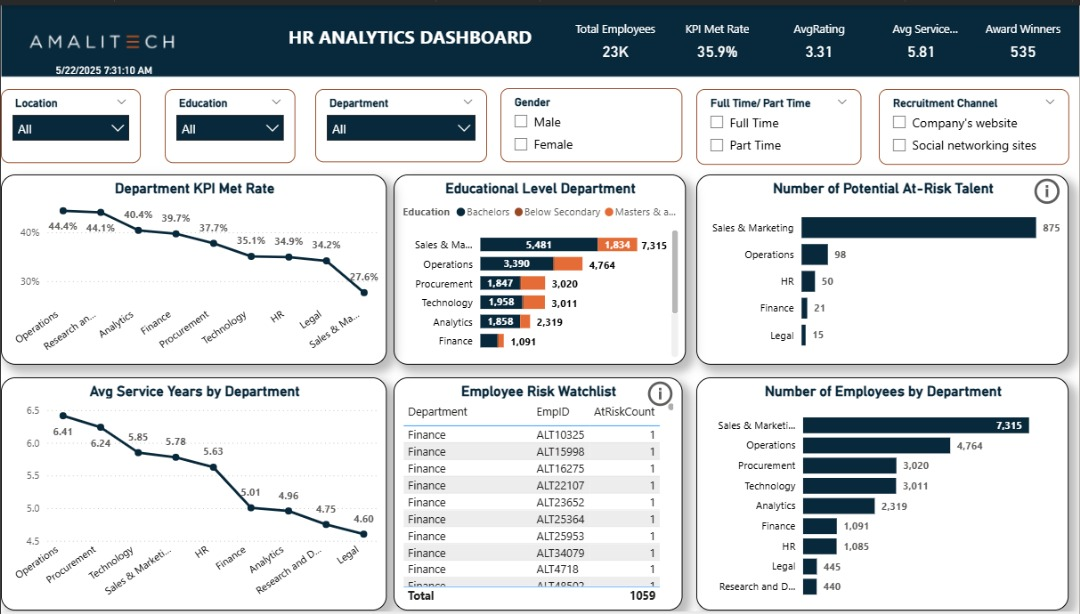

The page's visual inventory and layout, read from the dashboard file:
{"tool":"powerbi","page":{"name":"Department Overview","canvas":[1280,720],"ordinal":1},"visuals":[{"type":"textbox","box":[336.1,18,320.3,47.6],"z":0},{"type":"slicer","fields":{"Values":["Altera_Emp_Data.Gender"]},"box":[593.1,97.9,216.3,88.4],"z":1000},{"type":"slicer","fields":{"Values":["Altera_Emp_Data.Education"]},"box":[194.5,99.3,155.1,88.4],"z":2000},{"type":"slicer","fields":{"Values":["Altera_Emp_Data.Department"]},"box":[372.7,99.3,204,87.1],"z":3000},{"type":"slicer","fields":{"Values":["Altera_Emp_Data.Location"]},"box":[0,99.3,166,88.4],"z":4000},{"type":"card","title":"Total Awards Won","fields":{"Values":["Altera_Emp_Data.current_date"]},"box":[27.3,63.4,188.9,24],"z":5000},{"type":"slicer","fields":{"Values":["Altera_Emp_Data.FT/PT"]},"box":[825.7,99.3,195.9,89.8],"z":6000},{"type":"barChart","title":"Number of Potential At-Risk Talent","fields":{"Category":["Altera_Emp_Data.Department"],"Y":["MeasureTable.AtRiskCount"]},"box":[825.7,201.3,442.1,225.8],"z":7000},{"type":"clusteredBarChart","title":"Number of Employees by Department ","fields":{"Category":["Altera_Emp_Data.Department"],"Y":["MeasureTable.TotalEmployees"]},"box":[825.7,442.1,442.1,277.5],"z":8000},{"type":"barChart","title":"Educational Level  Department","fields":{"Category":["Altera_Emp_Data.Department"],"Y":["CountNonNull(Altera_Emp_Data.Education)"],"Series":["Altera_Emp_Data.Education"]},"box":[466.6,201.3,346.9,225.8],"z":9000},{"type":"lineChart","title":"Department KPI Met Rate","fields":{"Category":["Altera_Emp_Data.Department"],"Y":["MeasureTable.KPIMetRate"]},"box":[0,201.3,458.4,225.8],"z":10000},{"type":"cardVisual","fields":{"Data":["MeasureTable.TotalEmployees","MeasureTable.KPIMetRate","MeasureTable.AvgRating","MeasureTable.AvgServiceYears","MeasureTable.AwardWinners"]},"box":[665.2,0,614.8,84.3],"z":11000},{"type":"slicer","fields":{"Values":["Altera_Emp_Data.Recruitment_Channell"]},"box":[1042,99.3,225.8,89.8],"z":12000},{"type":"lineChart","title":"Avg Service Years by Department","fields":{"Category":["Altera_Emp_Data.Department"],"Y":["MeasureTable.AvgServiceYears"]},"box":[0,442.1,458.4,277.5],"z":13000},{"type":"tableEx","title":"Employee Risk Watchlist","fields":{"Values":["Altera_Emp_Data.Department","Altera_Emp_Data.EmpID","MeasureTable.AtRiskCount"]},"box":[466.6,442.1,342.8,277.5],"z":14000},{"type":"actionButton","box":[763.1,442.1,46.2,39.4],"z":15000},{"type":"actionButton","box":[1221.8,200.8,45.6,39.9],"z":16000}]}

Visuals, with their boxes in screenshot pixels (x1, y1, x2, y2), scaled from the page's 1280x720 canvas onto the 1080x614 screenshot:
textbox: locate(284, 15, 554, 56)
slicer - Altera_Emp_Data.Gender: locate(500, 83, 683, 159)
slicer - Altera_Emp_Data.Education: locate(164, 85, 295, 160)
slicer - Altera_Emp_Data.Department: locate(314, 85, 487, 159)
slicer - Altera_Emp_Data.Location: locate(0, 85, 140, 160)
"Total Awards Won" card: locate(23, 54, 182, 75)
slicer - Altera_Emp_Data.FT/PT: locate(697, 85, 862, 161)
"Number of Potential At-Risk Talent" barChart: locate(697, 172, 1070, 364)
"Number of Employees by Department " clusteredBarChart: locate(697, 377, 1070, 613)
"Educational Level  Department" barChart: locate(394, 172, 686, 364)
"Department KPI Met Rate" lineChart: locate(0, 172, 387, 364)
cardVisual - MeasureTable.TotalEmployees x MeasureTable.KPIMetRate: locate(561, 0, 1079, 72)
slicer - Altera_Emp_Data.Recruitment_Channell: locate(879, 85, 1070, 161)
"Avg Service Years by Department" lineChart: locate(0, 377, 387, 613)
"Employee Risk Watchlist" tableEx: locate(394, 377, 683, 613)
actionButton: locate(644, 377, 683, 411)
actionButton: locate(1031, 171, 1069, 205)
